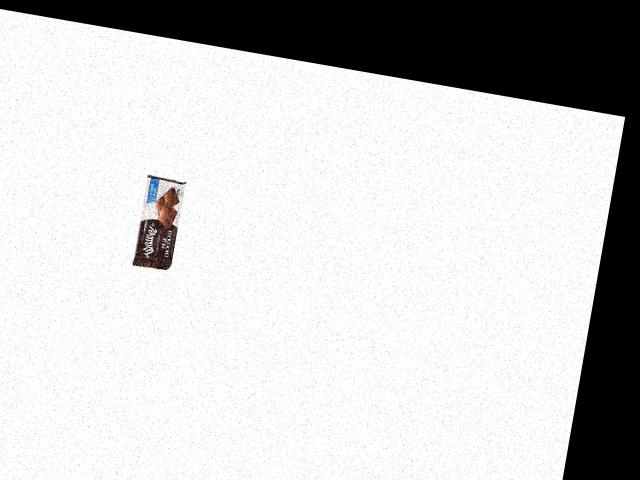chocolate: (130, 173, 188, 271)
